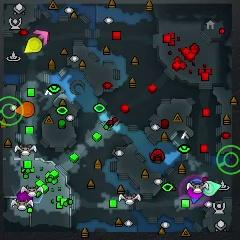p1: (189, 178, 204, 203)
p2: (203, 180, 221, 197)
p3: (17, 189, 31, 203)
p4: (25, 36, 42, 53)
p5: (15, 101, 35, 117)
x1: (35, 29, 49, 44)
